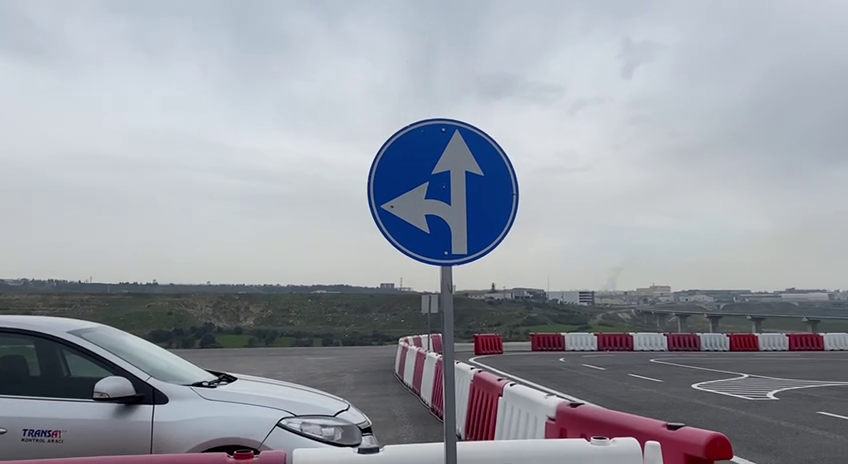forwardAndLeft: (361, 112, 525, 270)
